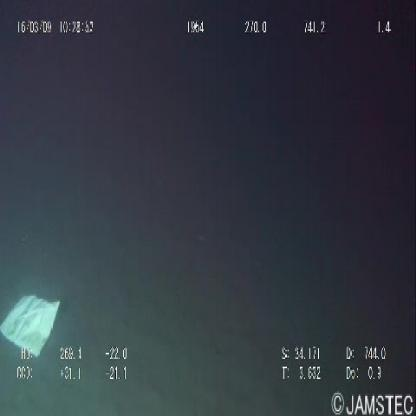Rác: (1, 286, 64, 364)
